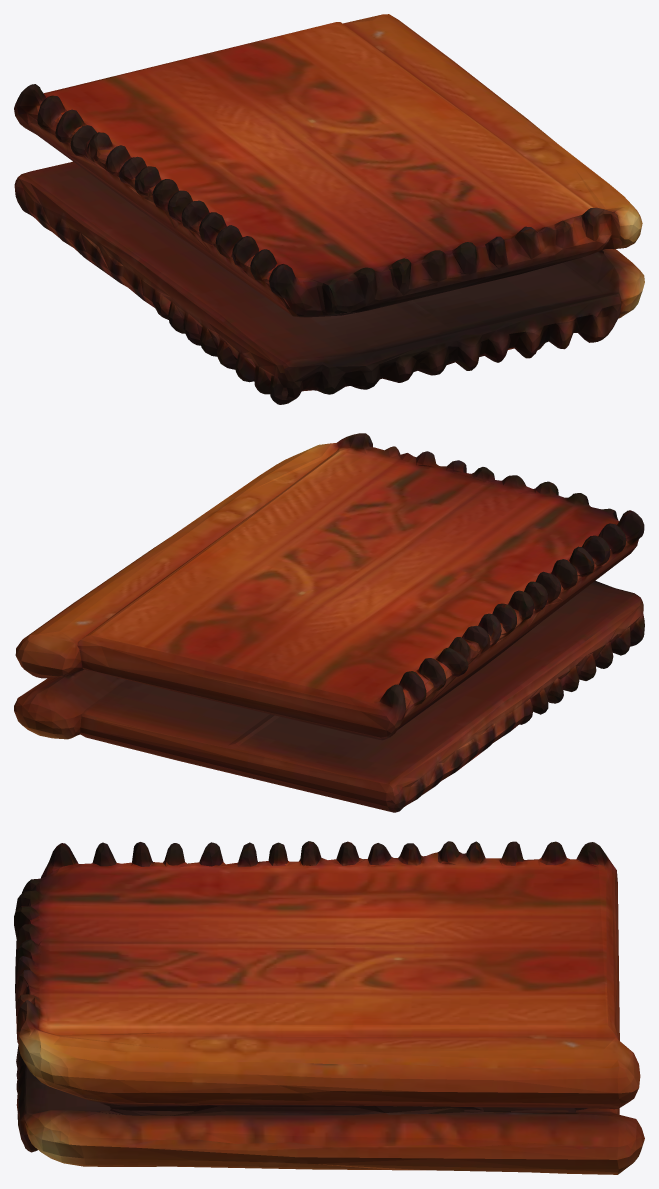
3 views of the same model, one above another, from view 1: azimuth 30°, elevation 25°; view 2: azimuth 150°, elevation 25°; view 3: azimuth 270°, elevation 25° (orthographic). The views are drawn at different scales.
Visible parts, largest first — view 1: geometry_0; view 2: geometry_0; view 3: geometry_0.
Part boxes in pixels (x1,y1,x2,y2): geometry_0: (14, 14, 644, 404); geometry_0: (14, 433, 644, 812); geometry_0: (14, 841, 644, 1174).
Bounding box in the file's own units: 0.7895 × 0.2639 × 0.994.
1 material, 1 textured.
